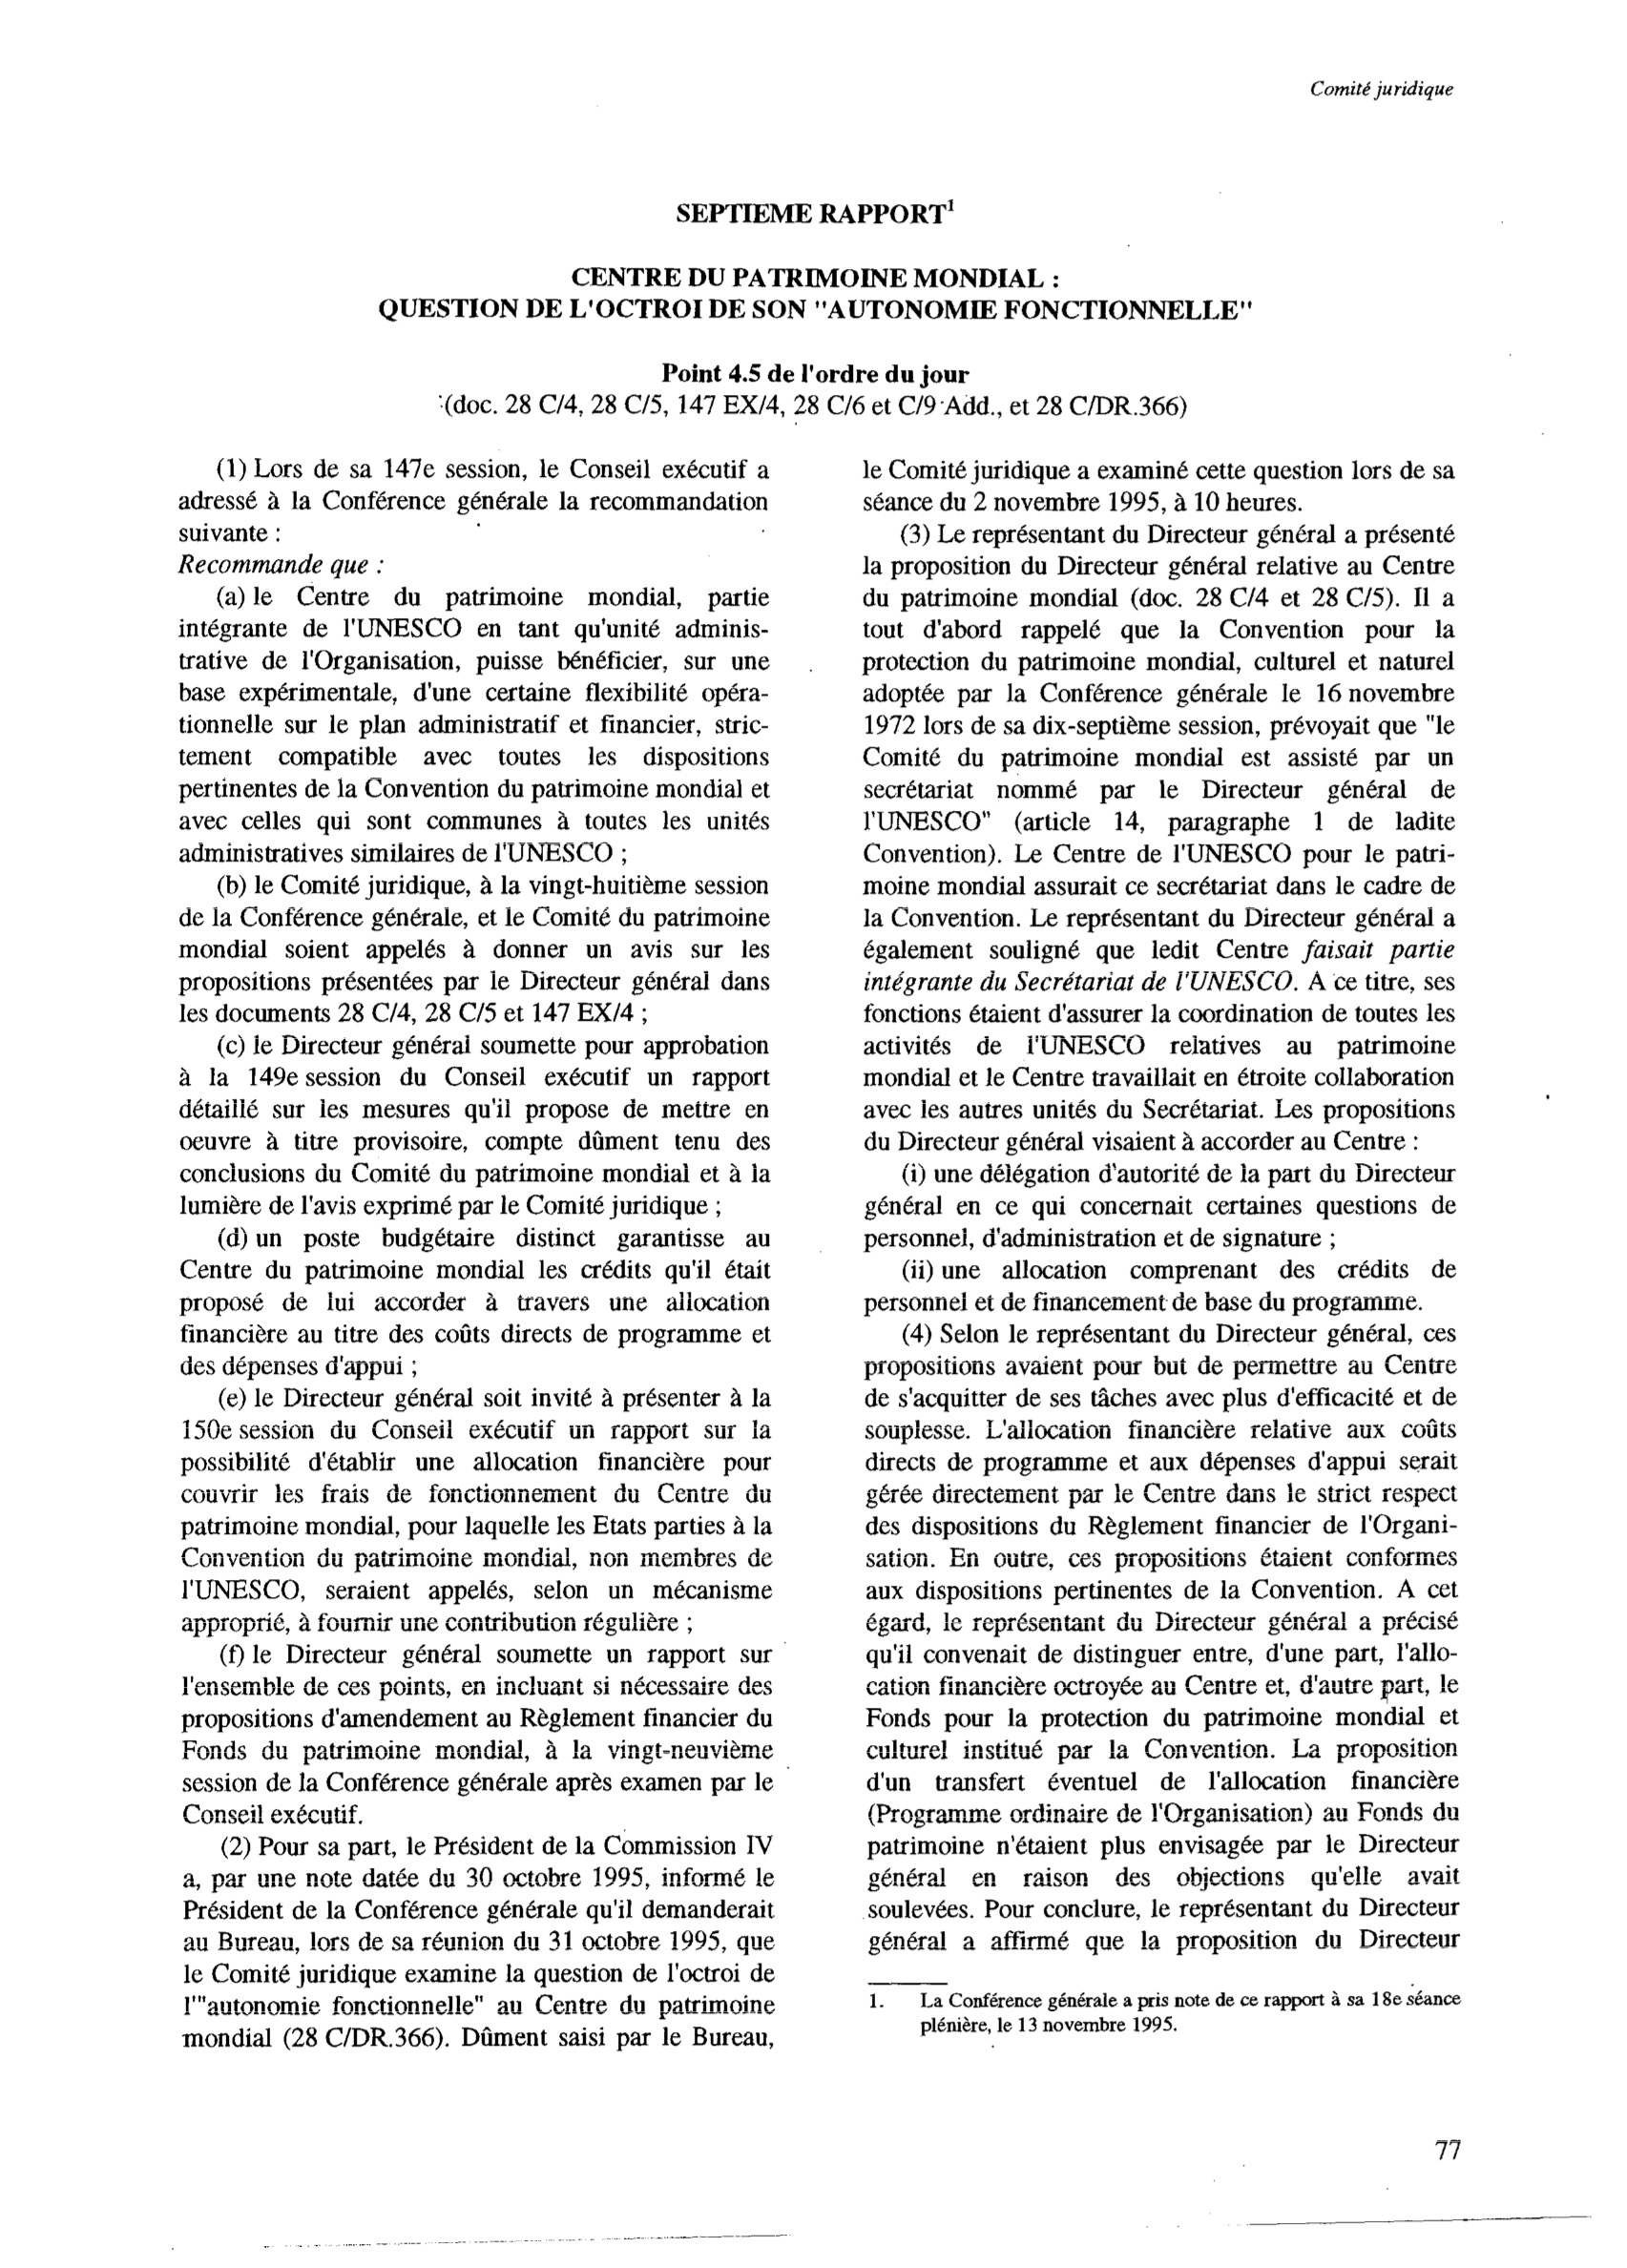MainZone-Continued: (848, 452, 1461, 518)
MainZone-Head: (363, 254, 1261, 332), (428, 384, 1199, 423), (661, 187, 966, 239), (650, 352, 973, 385)
MainZone-ListItem: (854, 1317, 1466, 1960), (853, 512, 1466, 1154), (167, 578, 779, 867), (172, 1383, 778, 1636), (173, 1830, 783, 2063), (169, 1030, 777, 1219), (174, 1639, 781, 1828), (166, 867, 776, 1027), (172, 1222, 778, 1382), (167, 447, 780, 581), (854, 1158, 1462, 1254), (854, 1255, 1462, 1318)
MarginTextZone-Notes: (859, 1988, 1470, 2042)
StampZone: (1299, 69, 1459, 109)
TitlePageZone: (1423, 2131, 1468, 2171)
